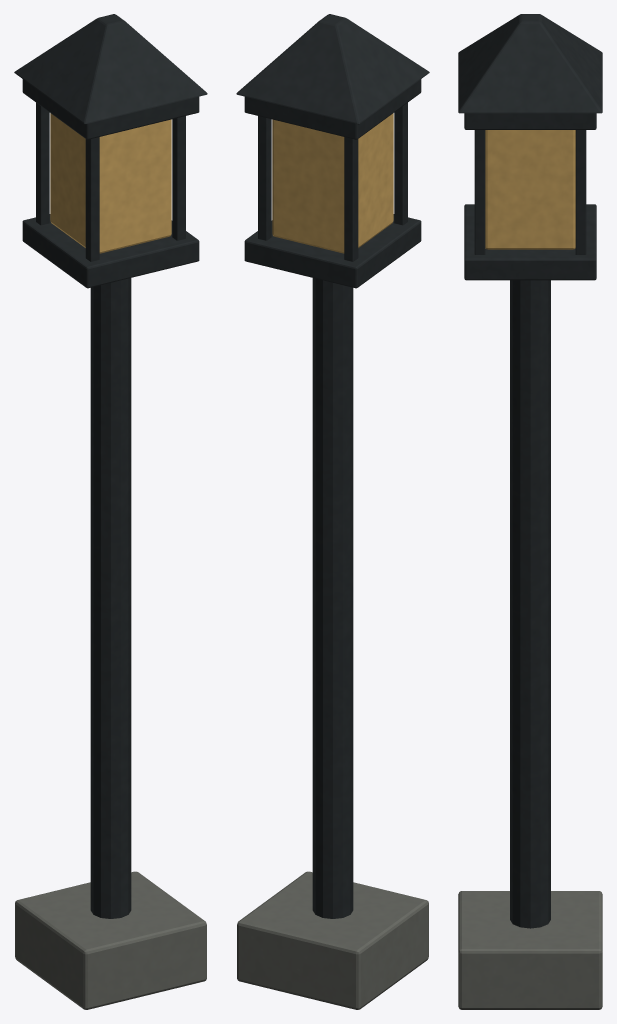
Rendered from Streetlamp.fbx.
The picture shows the model from 3 angles, left to right: view 1: azimuth 30°, elevation 25°; view 2: azimuth 150°, elevation 25°; view 3: azimuth 270°, elevation 25°; orthographic projection.
Visible parts, largest first — view 1: Streetlamp.001; view 2: Streetlamp.001; view 3: Streetlamp.001.
Part boxes in pixels (box(x1,y1,x2,y2)): Streetlamp.001: box(14, 14, 207, 1009); Streetlamp.001: box(236, 14, 429, 1009); Streetlamp.001: box(458, 14, 602, 1009).
Bounding box in the file's own units: 0.6003 × 4.42 × 0.6003.
